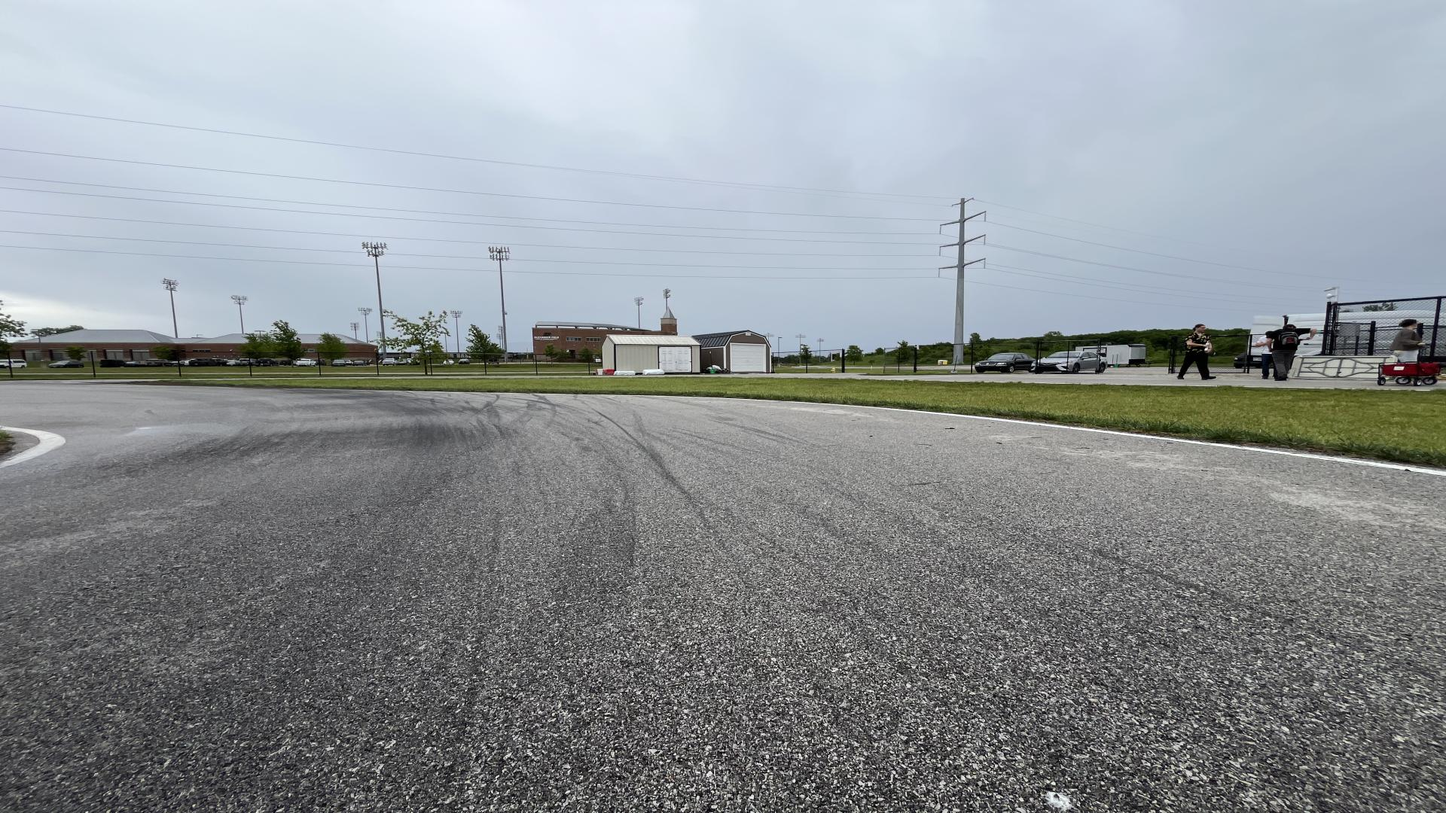white-line: (108, 382, 1445, 480), (0, 425, 66, 467)
